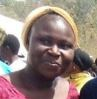without_facemask: (36, 49, 70, 76)
